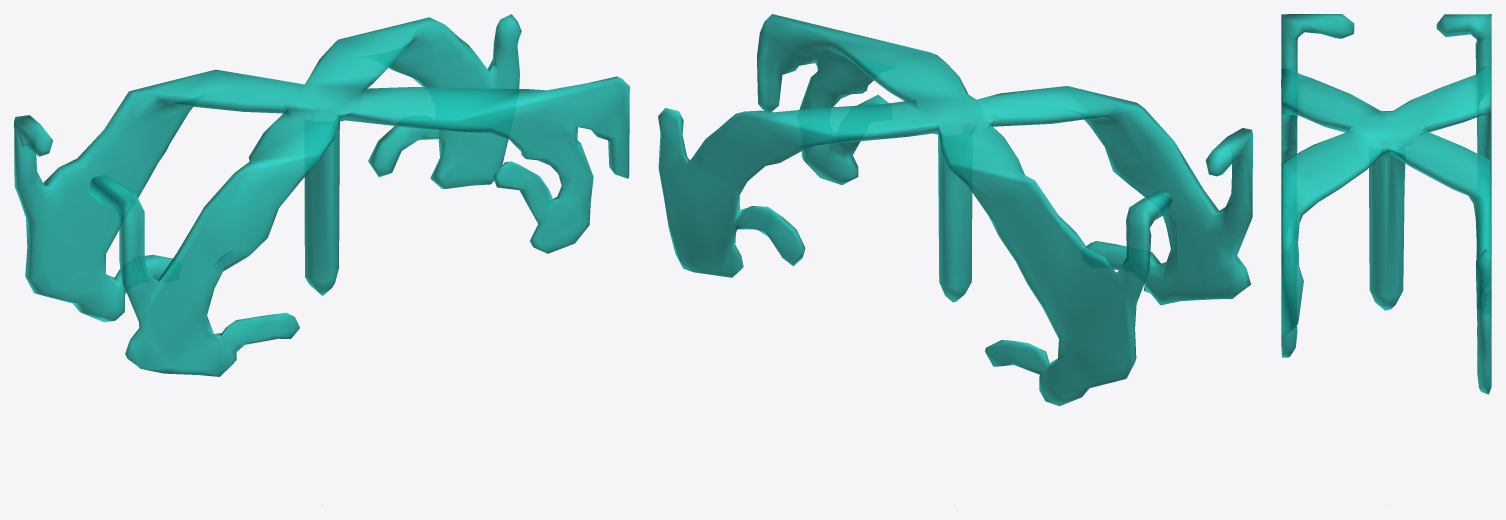
3 renders of one model, left to right at view 1: azimuth 30°, elevation 25°; view 2: azimuth 150°, elevation 25°; view 3: azimuth 270°, elevation 25°, orthographic. The views are drawn at different scales.
Parts seen in each view (by area): view 1: Liquid_Domain; view 2: Liquid_Domain; view 3: Liquid_Domain.
Part boxes in pixels (x1,y1,x2,y2): Liquid_Domain: [14, 14, 629, 376]; Liquid_Domain: [658, 14, 1252, 406]; Liquid_Domain: [1281, 14, 1491, 394].
Size of the model in its own units: 884 by 683 by 344.
